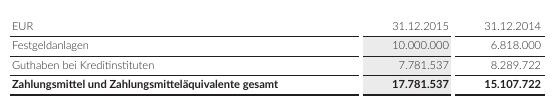table: (0, 0, 553, 108)
